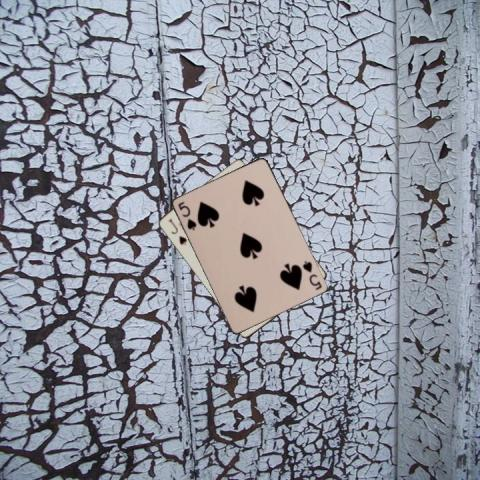5s: (300, 258, 323, 291), (175, 199, 198, 232)
Js: (165, 215, 189, 247)
